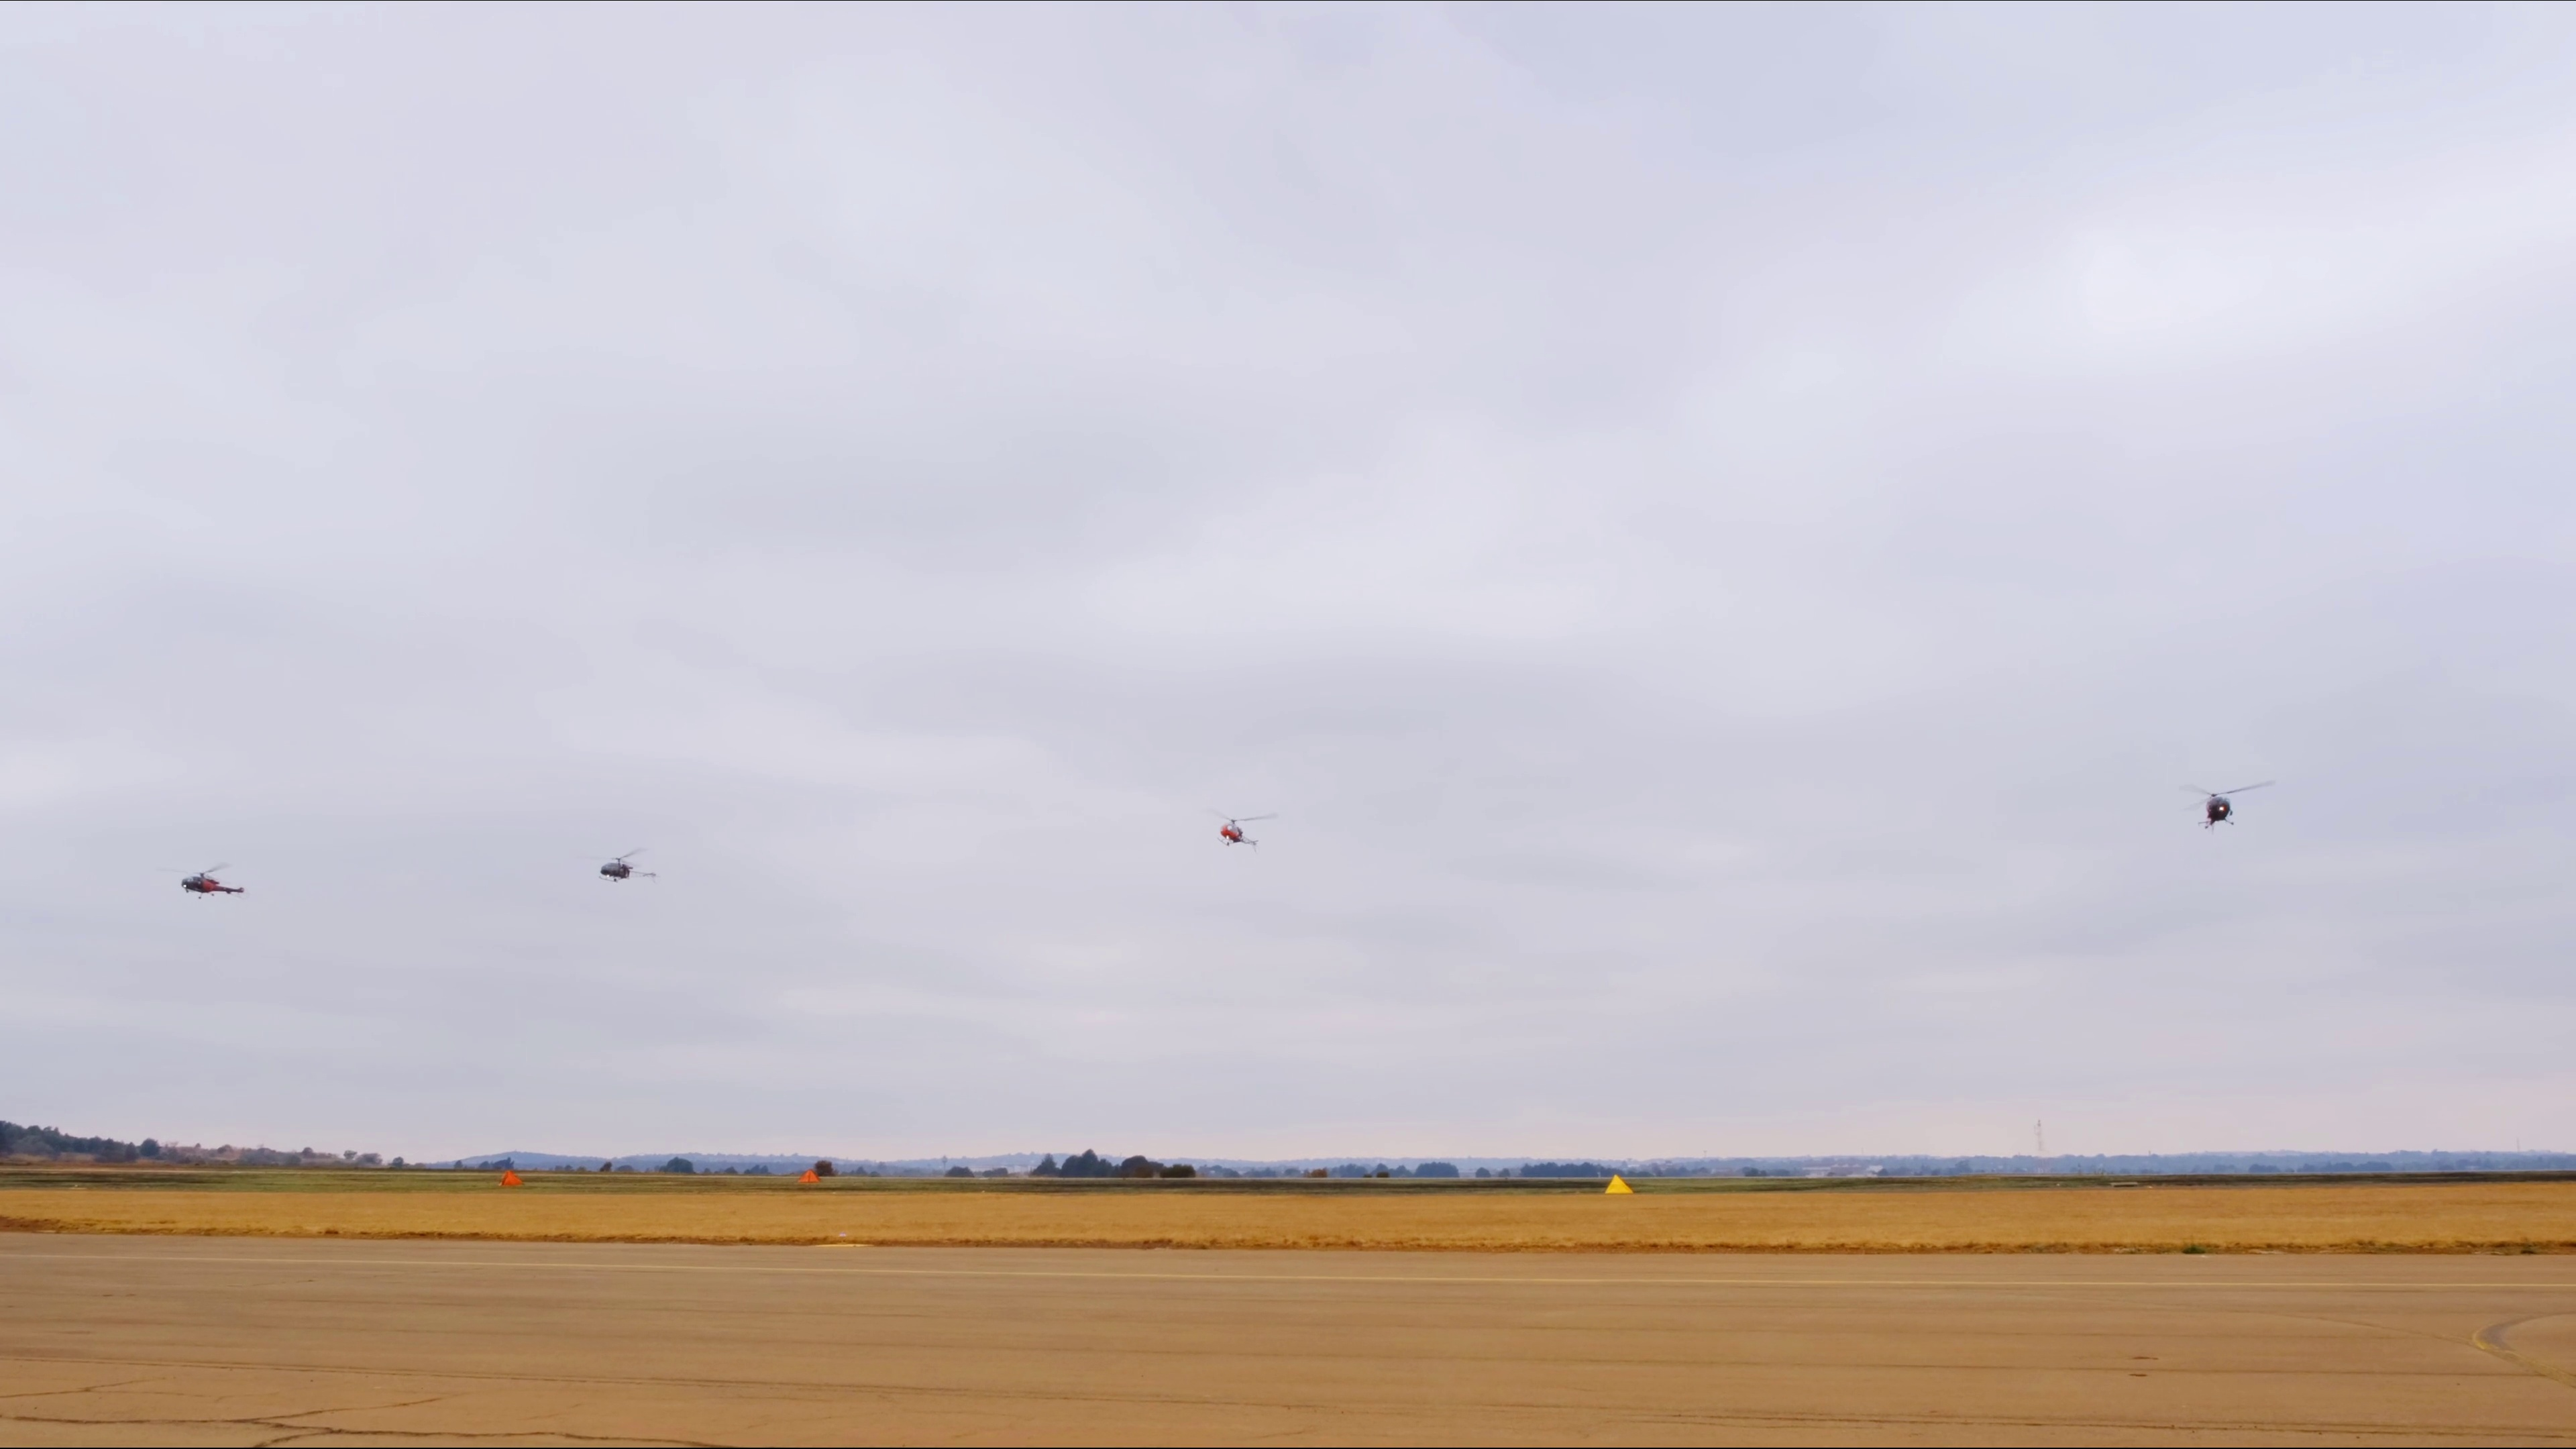heli: (2174, 777, 2268, 830), (179, 858, 246, 902), (600, 840, 662, 888), (1215, 814, 1274, 849)
